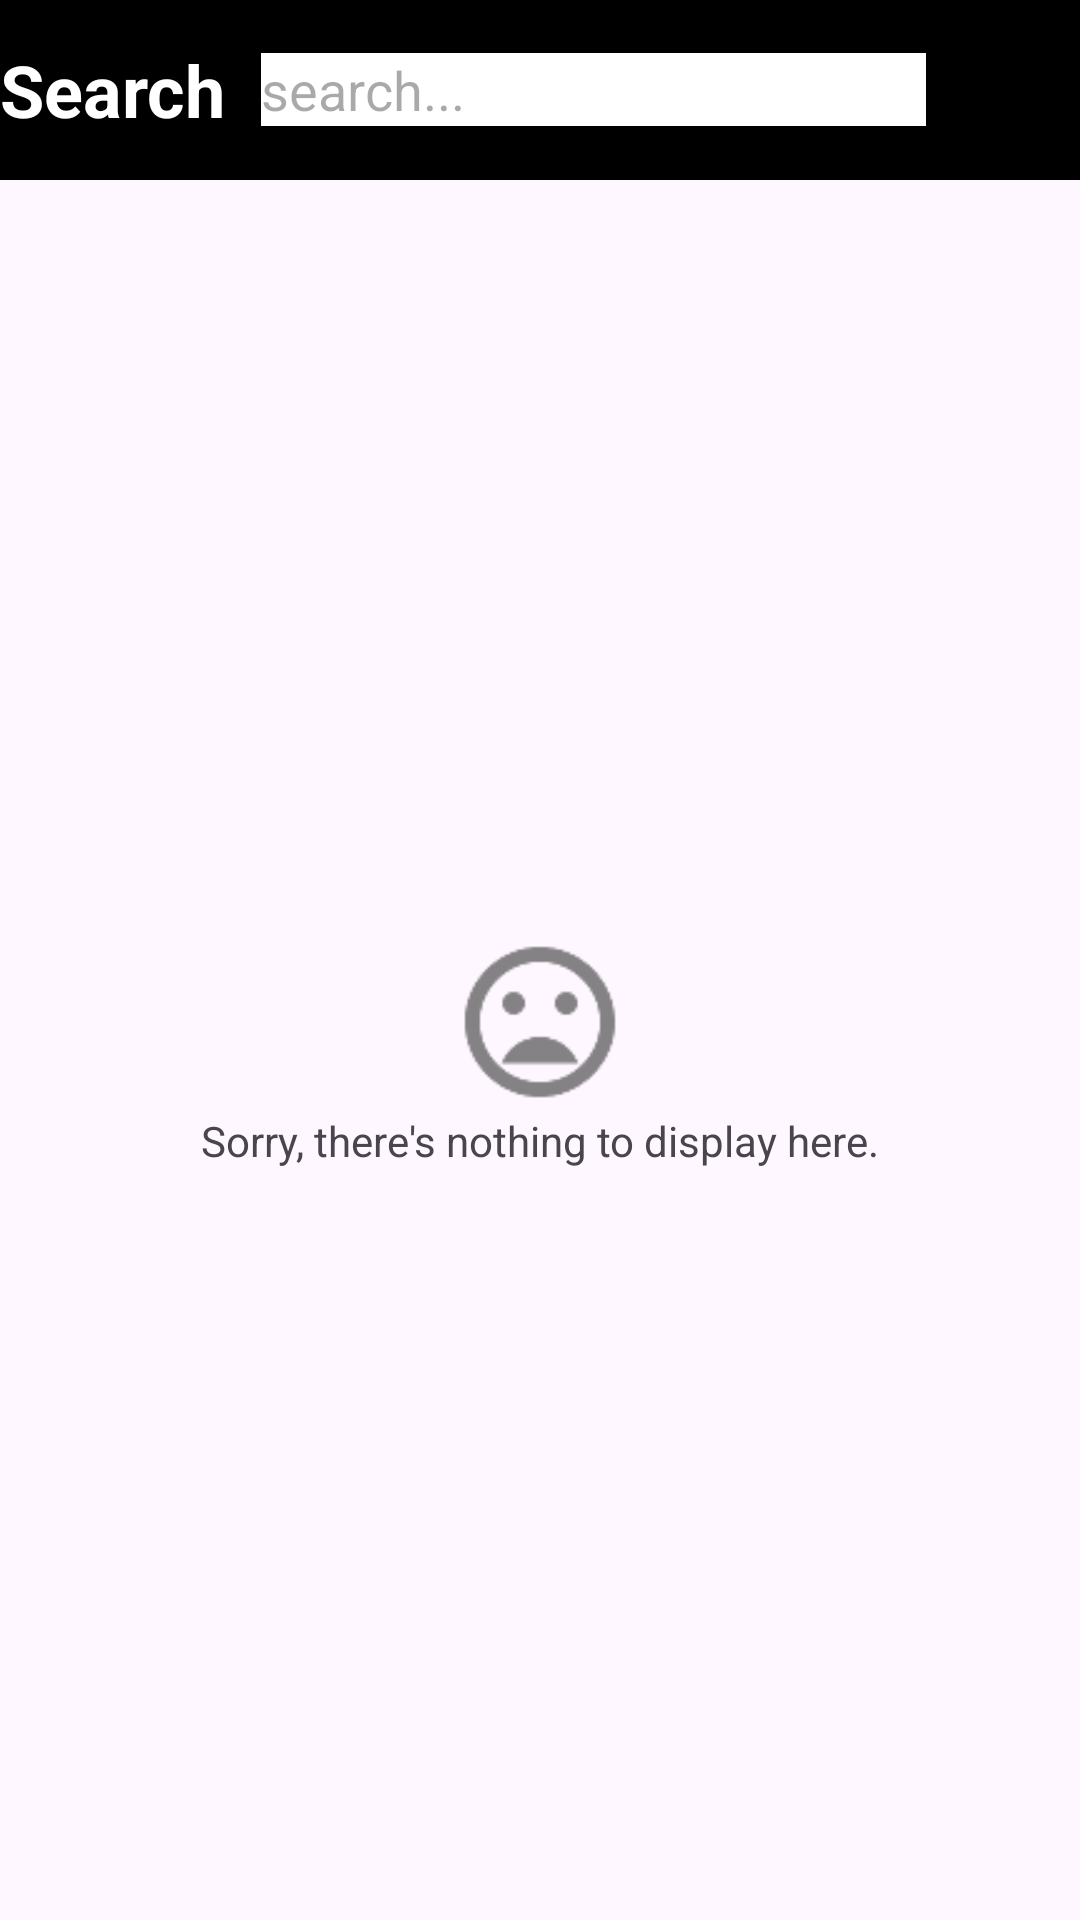

Where icons sit on this 1080px x 1920px app screen, as (x1, y1, x2, y2):
sad: (464, 946, 616, 1098)
